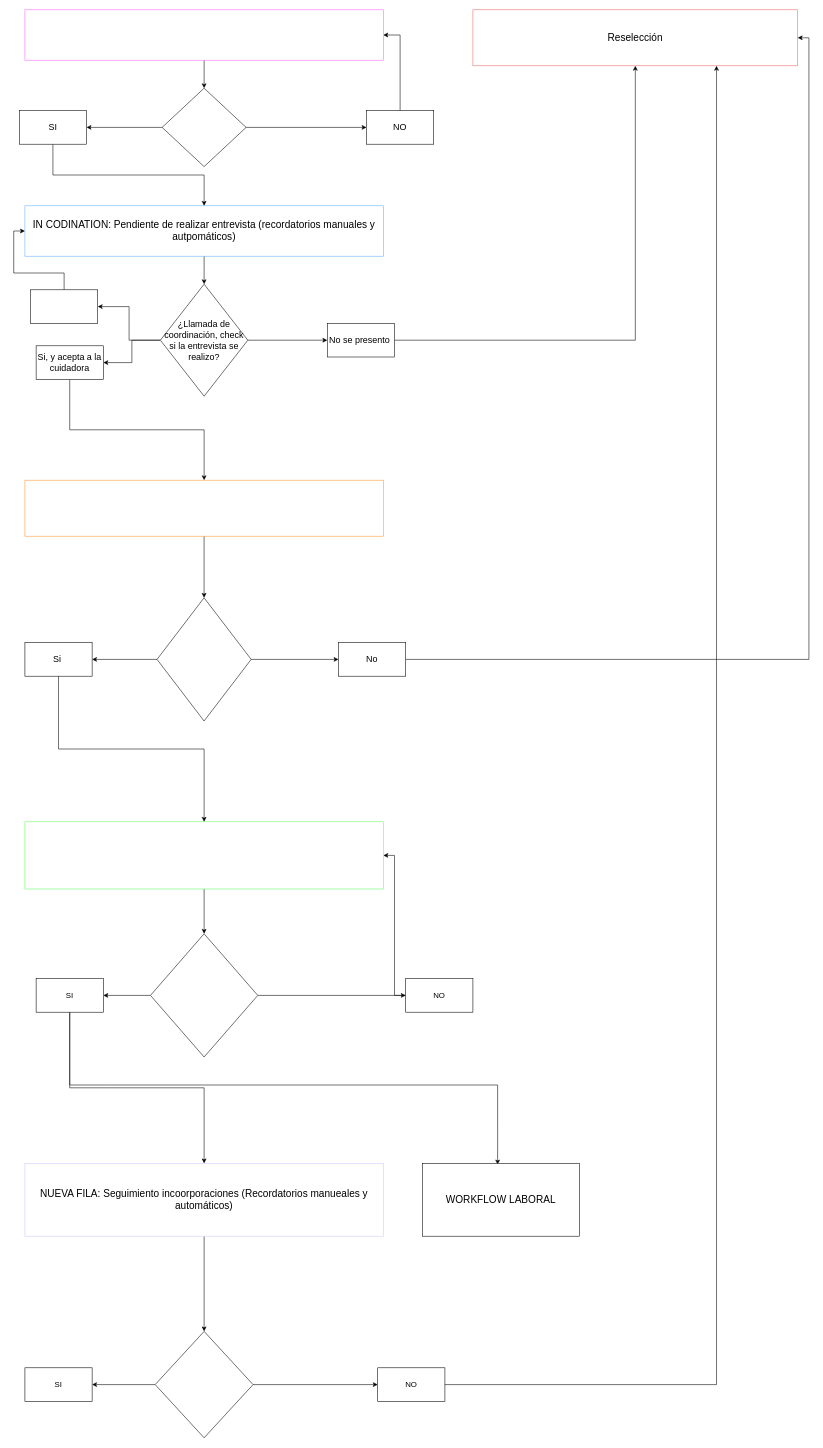
Image size: 823x1448. Some labels were removed from this diagram. The centre of each missing label's shape, as x and y in pixels:
"Confirmar si acepta el puesta de trabajo" belongs at point (203, 659).
"Coordinación da el OK" belongs at point (204, 995).
"INCORPORATIONS: Chequeo de cláusulas de horarios y fecha de incorporación" belongs at point (203, 855).
"PENDING INTERVIEW: Nuevas cards que lllegan de selección" belongs at point (203, 34).
"POST INTERVIEW: Coordinación llama a la cuidadora" belongs at point (203, 508).
"Si, y no acepta" belongs at point (64, 306).
"¿Se incoorpora?" belongs at point (204, 1384).
"¿selecciona fecha de entrevista?" belongs at point (204, 127).
